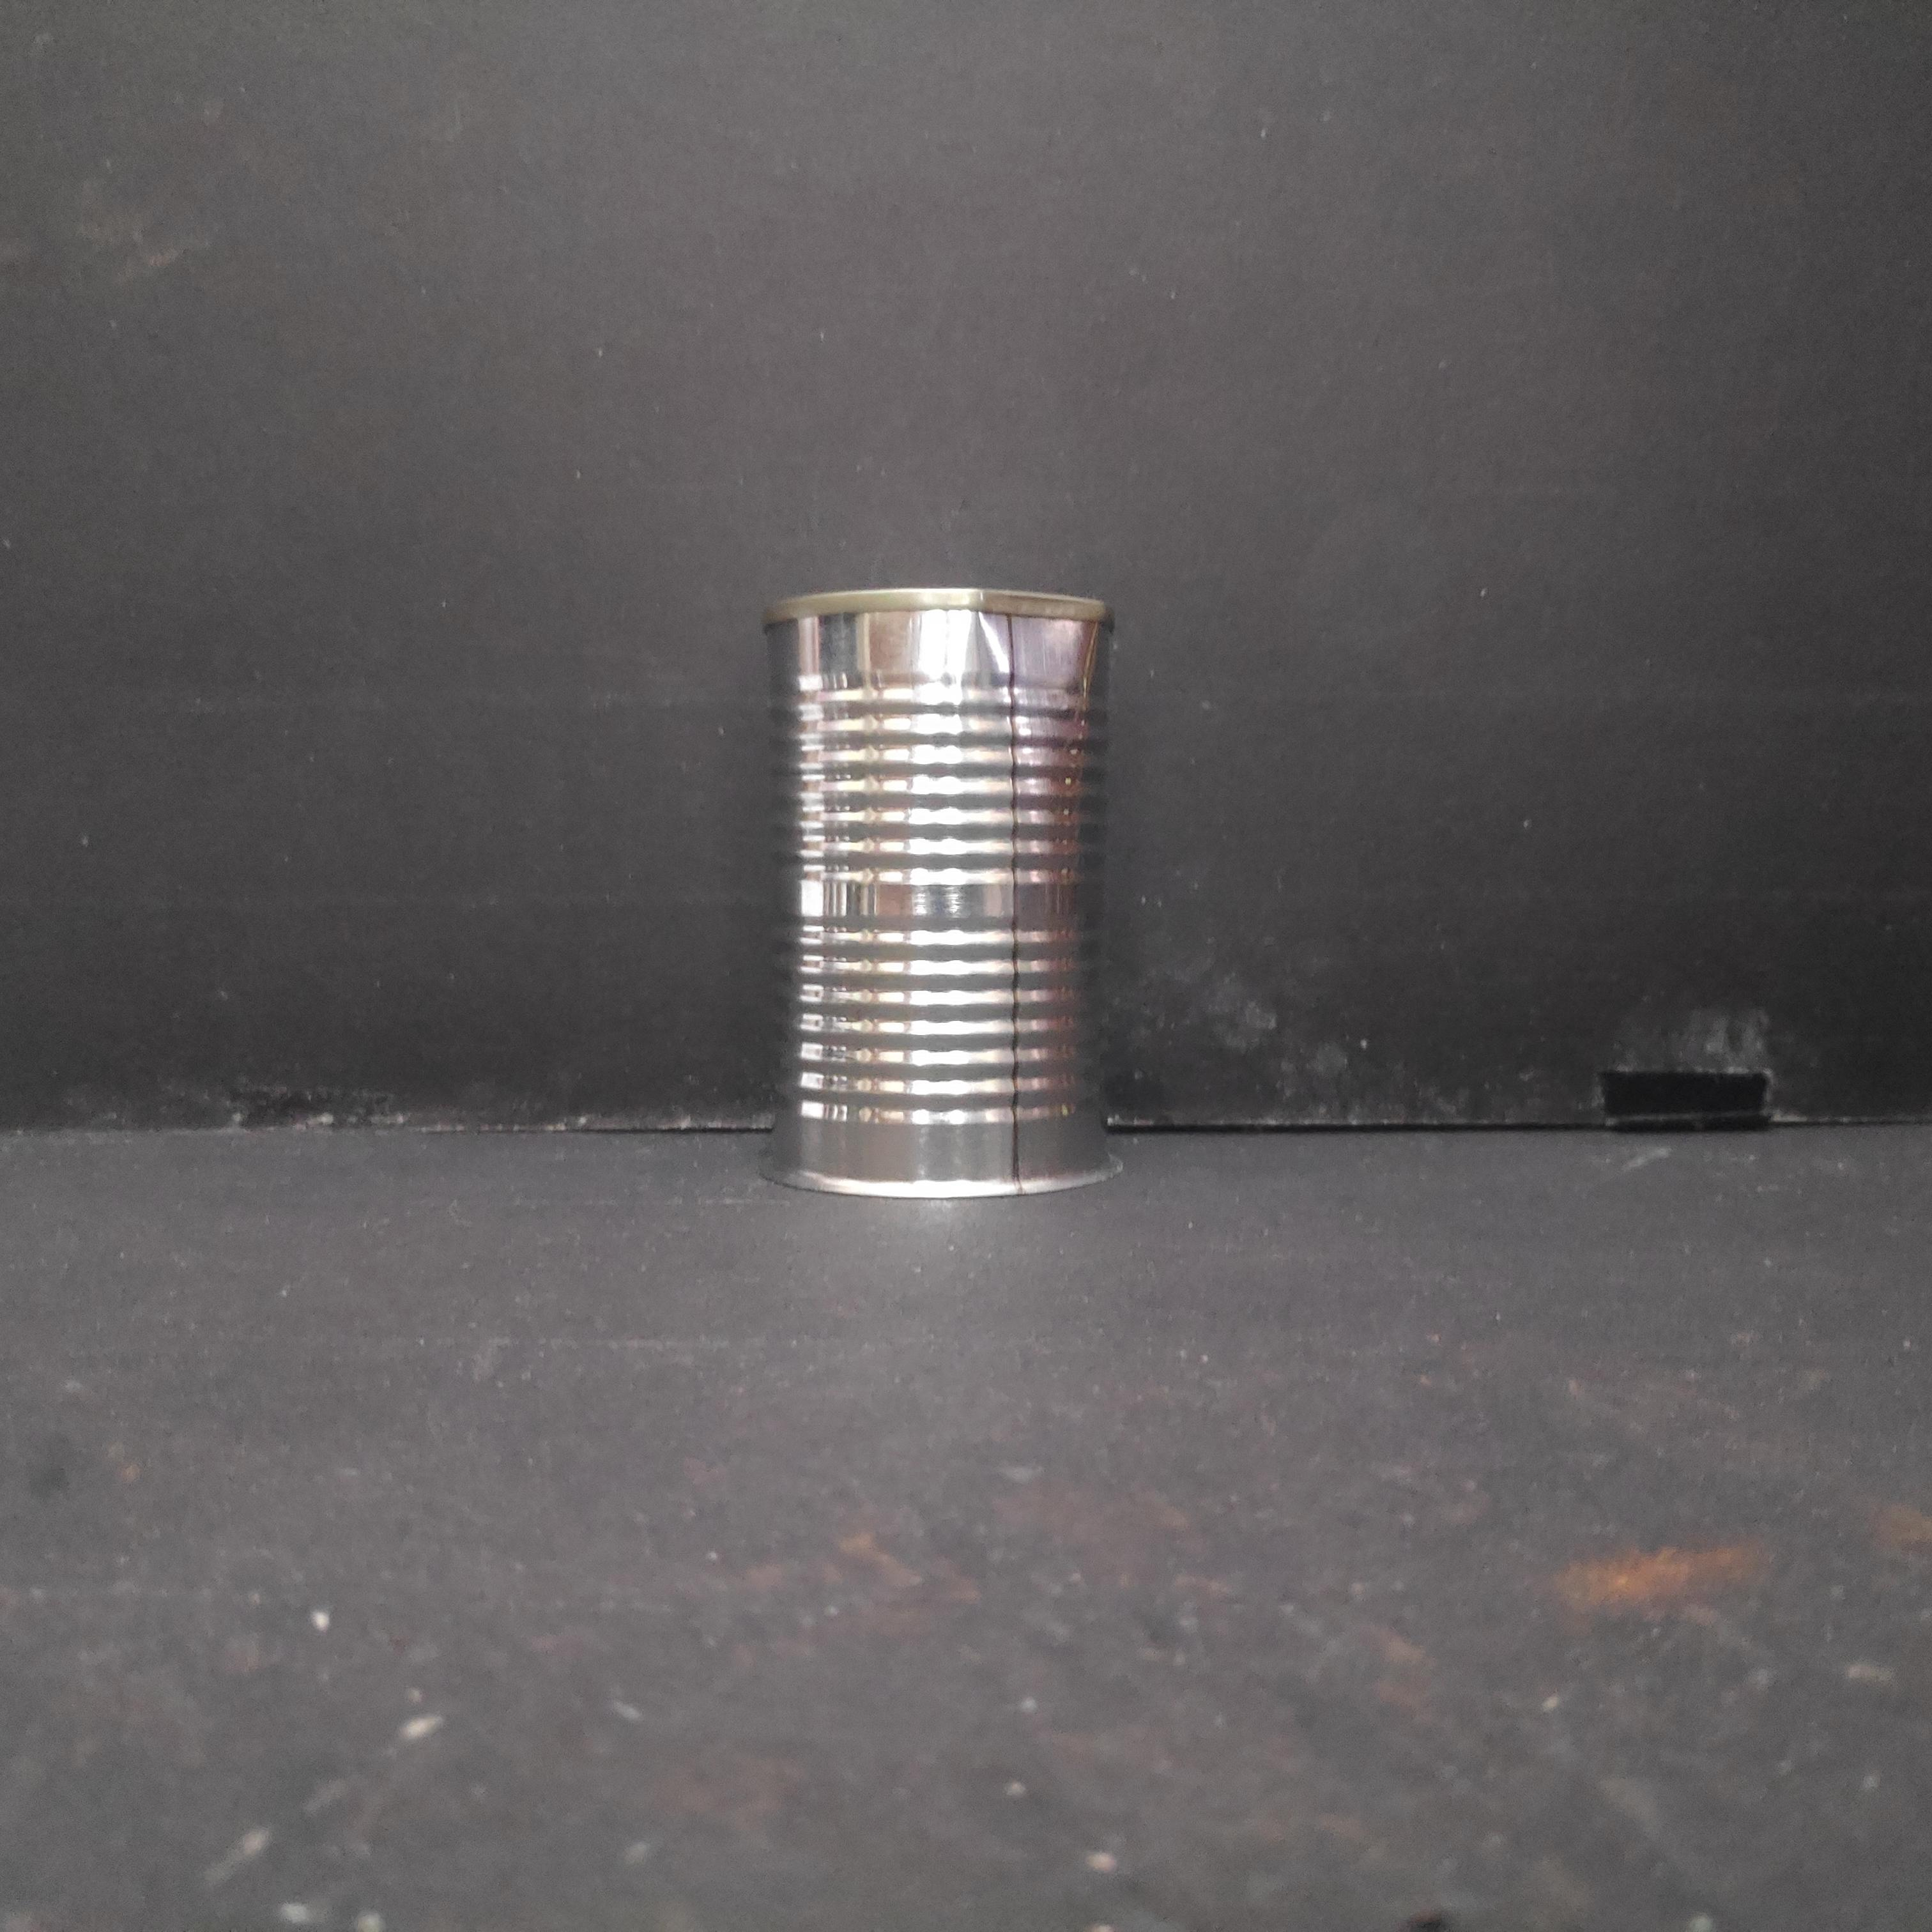Minor Defect: (748, 570, 1129, 1210)
